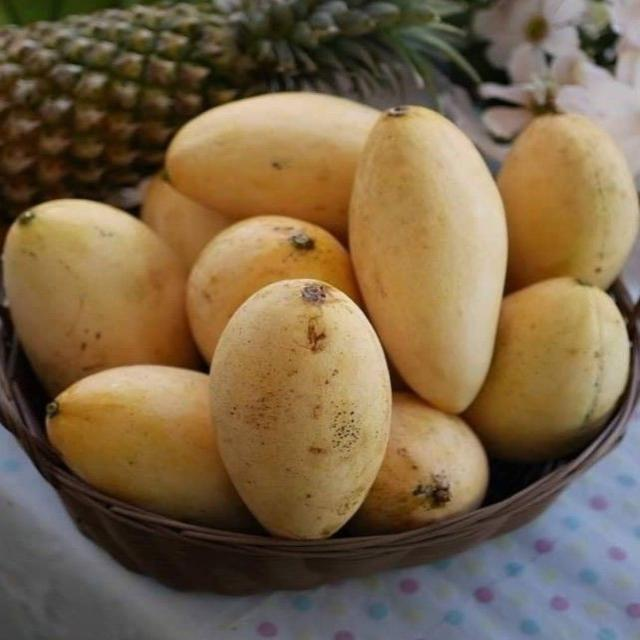mango: (350, 106, 504, 413), (210, 278, 389, 539), (2, 199, 199, 395), (46, 365, 256, 530), (164, 93, 379, 239), (464, 277, 629, 462), (186, 215, 362, 362), (497, 115, 639, 289), (347, 392, 486, 534), (141, 174, 229, 269)
pineapple: (0, 0, 474, 219)
